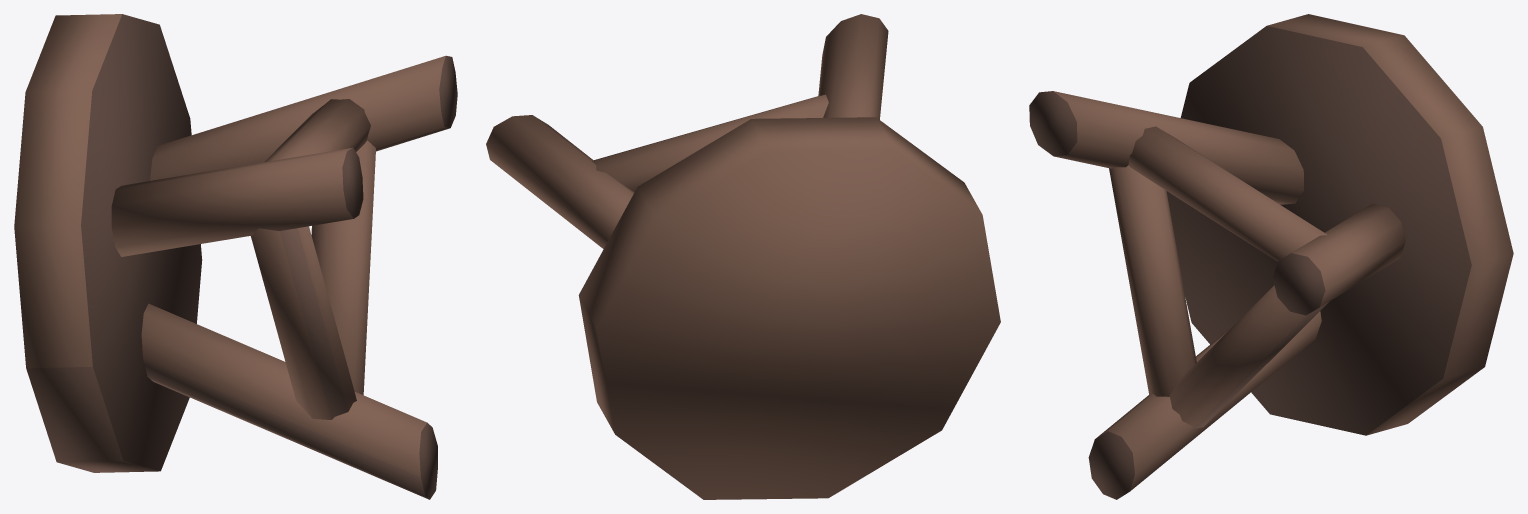
Rendered from stool.fbx.
3 views of the same model, side by side, from view 1: azimuth 30°, elevation 25°; view 2: azimuth 150°, elevation 25°; view 3: azimuth 270°, elevation 25° (orthographic). The views are drawn at different scales.
Parts seen in each view (by area): view 1: Stool; view 2: Stool; view 3: Stool.
Boxes of the visible parts, x1=… form: Stool: x1=14, y1=14, x2=457, y2=499; Stool: x1=486, y1=14, x2=1000, y2=499; Stool: x1=1029, y1=14, x2=1513, y2=499.
Size of the model in its own units: 118 by 96.06 by 111.
